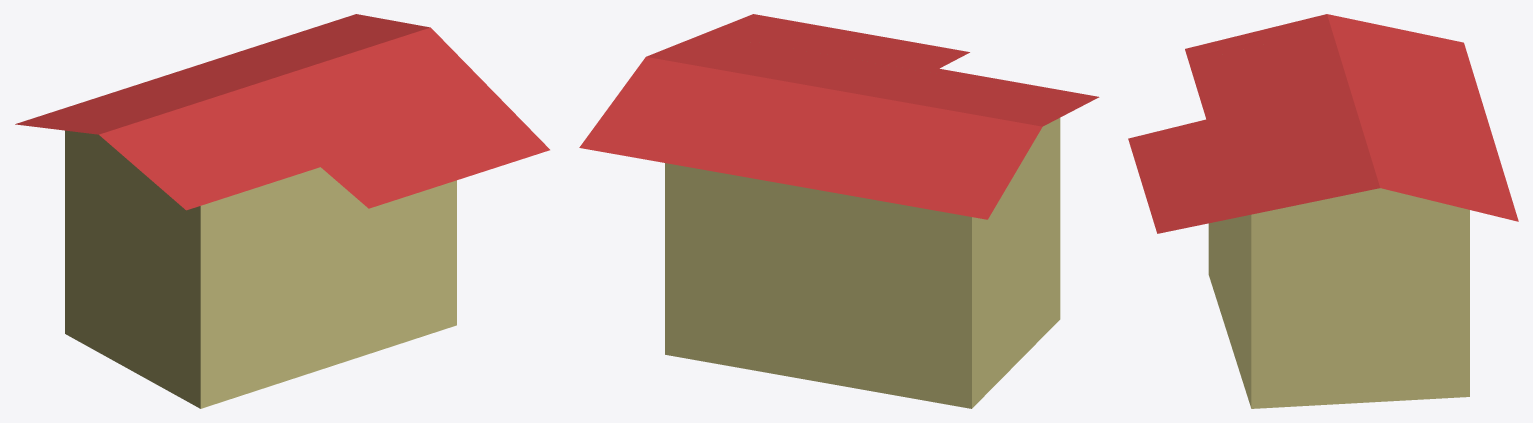
3 renders of one model, left to right at view 1: azimuth 30°, elevation 25°; view 2: azimuth 150°, elevation 25°; view 3: azimuth 270°, elevation 25°, orthographic. The views are drawn at different scales.
Bounding box in the file's own units: 10.96 × 9.76 × 6.61.
